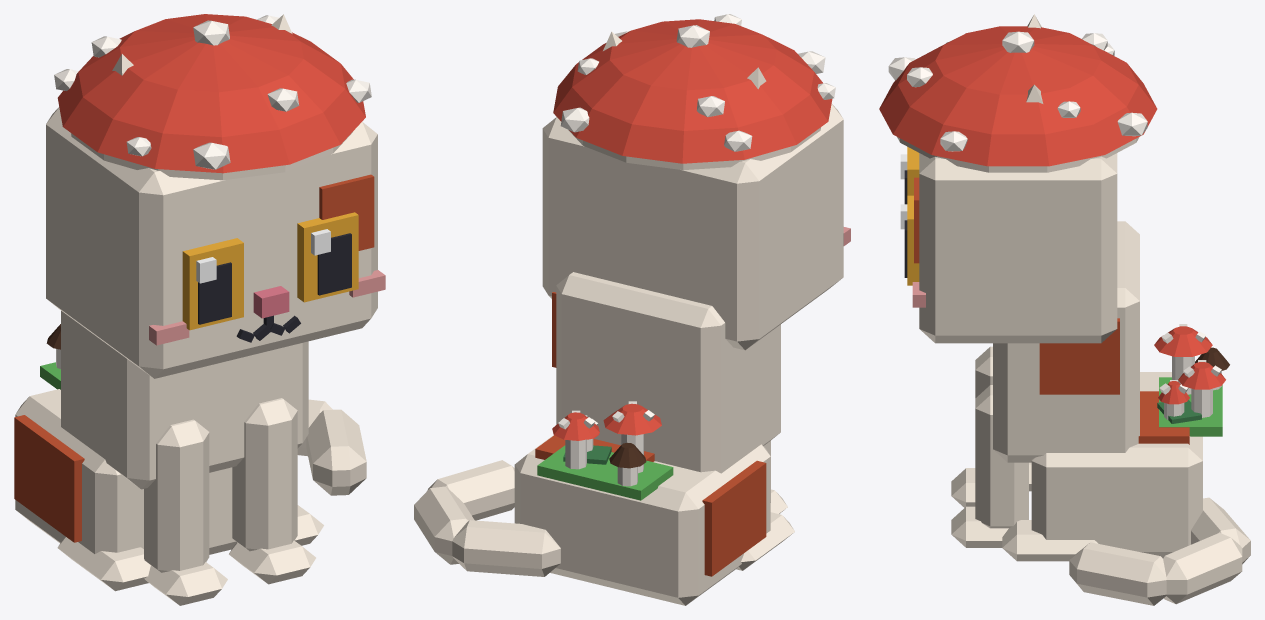
Rendered from CatCafe_Cat_Toadstool_Sit.fbx.
The picture shows the model from 3 angles, left to right: view 1: azimuth 30°, elevation 25°; view 2: azimuth 150°, elevation 25°; view 3: azimuth 270°, elevation 25°; orthographic projection. The views are drawn at different scales.
Parts seen in each view (by area): view 1: CatCafe_Cat_Toadstool_Sit_Head, CatCafe_Cat_Toadstool_Sit_Body, CatCafe_Cat_Toadstool_Sit_Prop, CatCafe_Cat_Toadstool_Sit_LegF1, CatCafe_Cat_Toadstool_Sit_LegF2, CatCafe_Cat_Toadstool_Sit_Eye2, CatCafe_Cat_Toadstool_Sit_Eye1, CatCafe_Cat_Toadstool_Sit_Tail, CatCafe_Cat_Toadstool_Sit_Glow, CatCafe_Cat_Toadstool_Sit_Prop2; view 2: CatCafe_Cat_Toadstool_Sit_Body, CatCafe_Cat_Toadstool_Sit_Head, CatCafe_Cat_Toadstool_Sit_Prop, CatCafe_Cat_Toadstool_Sit_Tail, CatCafe_Cat_Toadstool_Sit_Prop2, CatCafe_Cat_Toadstool_Sit_Glow; view 3: CatCafe_Cat_Toadstool_Sit_Body, CatCafe_Cat_Toadstool_Sit_Head, CatCafe_Cat_Toadstool_Sit_Prop, CatCafe_Cat_Toadstool_Sit_Tail, CatCafe_Cat_Toadstool_Sit_LegF1, CatCafe_Cat_Toadstool_Sit_Prop2, CatCafe_Cat_Toadstool_Sit_Glow, CatCafe_Cat_Toadstool_Sit_LegF2, CatCafe_Cat_Toadstool_Sit_Eye1, CatCafe_Cat_Toadstool_Sit_Eye2.
Part boxes in pixels (x1,y1,x2,y2): CatCafe_Cat_Toadstool_Sit_Head: (46, 107, 385, 378); CatCafe_Cat_Toadstool_Sit_Body: (14, 311, 323, 591); CatCafe_Cat_Toadstool_Sit_Prop: (57, 14, 365, 180); CatCafe_Cat_Toadstool_Sit_LegF1: (229, 398, 315, 584); CatCafe_Cat_Toadstool_Sit_LegF2: (144, 419, 227, 605); CatCafe_Cat_Toadstool_Sit_Eye2: (182, 238, 243, 330); CatCafe_Cat_Toadstool_Sit_Eye1: (297, 212, 358, 302); CatCafe_Cat_Toadstool_Sit_Tail: (297, 399, 366, 495); CatCafe_Cat_Toadstool_Sit_Glow: (54, 15, 371, 169); CatCafe_Cat_Toadstool_Sit_Prop2: (40, 324, 60, 389); CatCafe_Cat_Toadstool_Sit_Body: (514, 272, 794, 605); CatCafe_Cat_Toadstool_Sit_Head: (542, 104, 850, 350); CatCafe_Cat_Toadstool_Sit_Prop: (553, 19, 832, 170); CatCafe_Cat_Toadstool_Sit_Tail: (414, 460, 560, 576); CatCafe_Cat_Toadstool_Sit_Prop2: (537, 401, 673, 500); CatCafe_Cat_Toadstool_Sit_Glow: (560, 14, 835, 151); CatCafe_Cat_Toadstool_Sit_Body: (993, 221, 1202, 561); CatCafe_Cat_Toadstool_Sit_Head: (912, 153, 1117, 343); CatCafe_Cat_Toadstool_Sit_Prop: (879, 26, 1157, 172); CatCafe_Cat_Toadstool_Sit_Tail: (1069, 497, 1250, 605); CatCafe_Cat_Toadstool_Sit_LegF1: (951, 385, 1028, 547); CatCafe_Cat_Toadstool_Sit_Prop2: (1154, 324, 1229, 436); CatCafe_Cat_Toadstool_Sit_Glow: (888, 31, 1147, 151); CatCafe_Cat_Toadstool_Sit_LegF2: (951, 346, 992, 507); CatCafe_Cat_Toadstool_Sit_Eye1: (900, 195, 919, 285); CatCafe_Cat_Toadstool_Sit_Eye2: (900, 147, 919, 204).
Bounding box in the file's own units: 1.28 × 1.92 × 1.32.
1 material, 1 textured.
